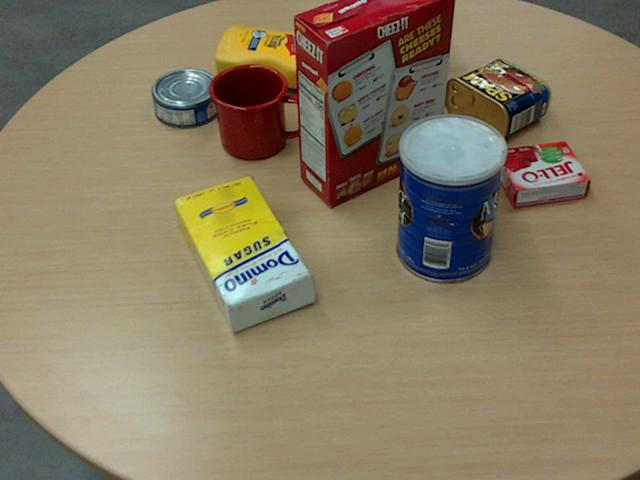cracker_box: (292, 0, 455, 204)
gelatin_box: (493, 139, 589, 204)
large_marker: (376, 23, 395, 113)
master_chef_can: (396, 114, 505, 283)
mug: (208, 63, 308, 158)
mustard_bottle: (215, 23, 367, 88)
potted_meat_can: (443, 58, 549, 143)
sugar_box: (170, 174, 314, 332)
tomato_soup_can: (391, 0, 445, 77)
tuna_fish_can: (150, 67, 220, 126)
